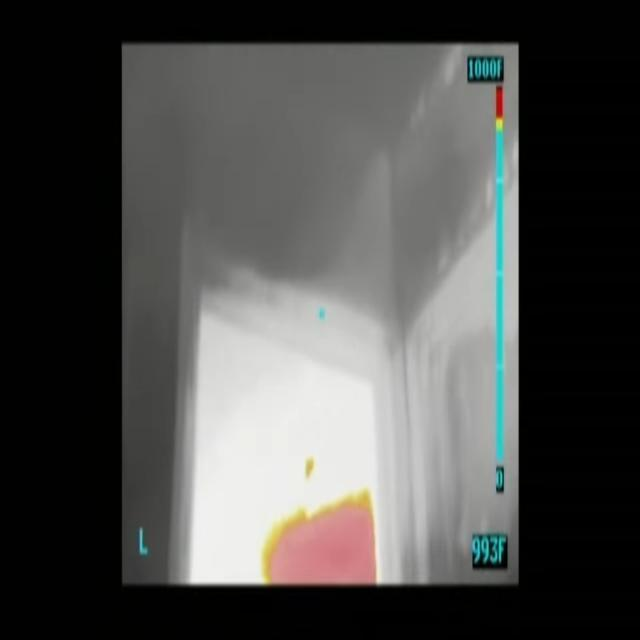fire: (259, 489, 379, 587)
